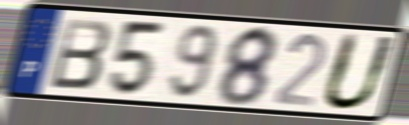2: (271, 31, 329, 110)
5: (104, 18, 175, 99)
8: (217, 23, 282, 108)
9: (168, 23, 220, 102)
B: (46, 15, 115, 91)
U: (318, 30, 401, 114)
